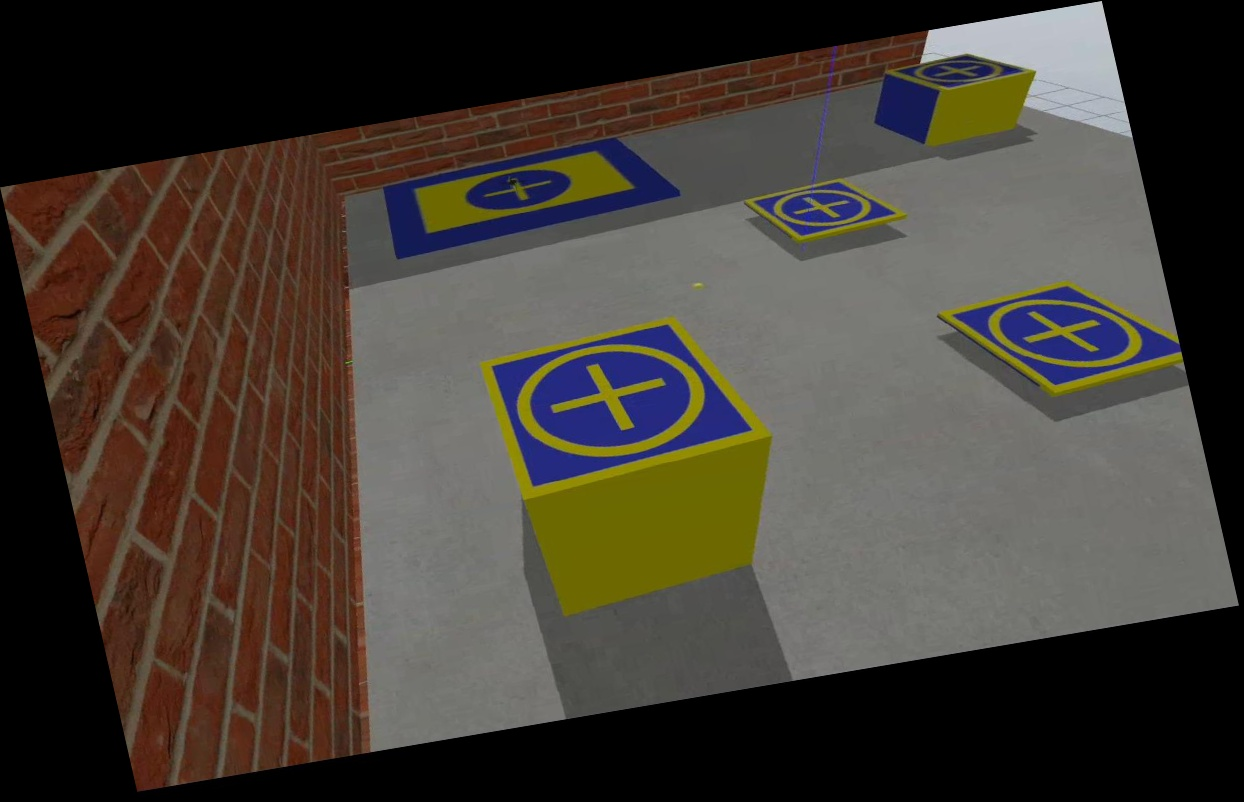large_base: (377, 129, 685, 253)
small_base: (478, 305, 772, 505), (935, 259, 1189, 412), (743, 166, 911, 256), (888, 45, 1035, 102)
